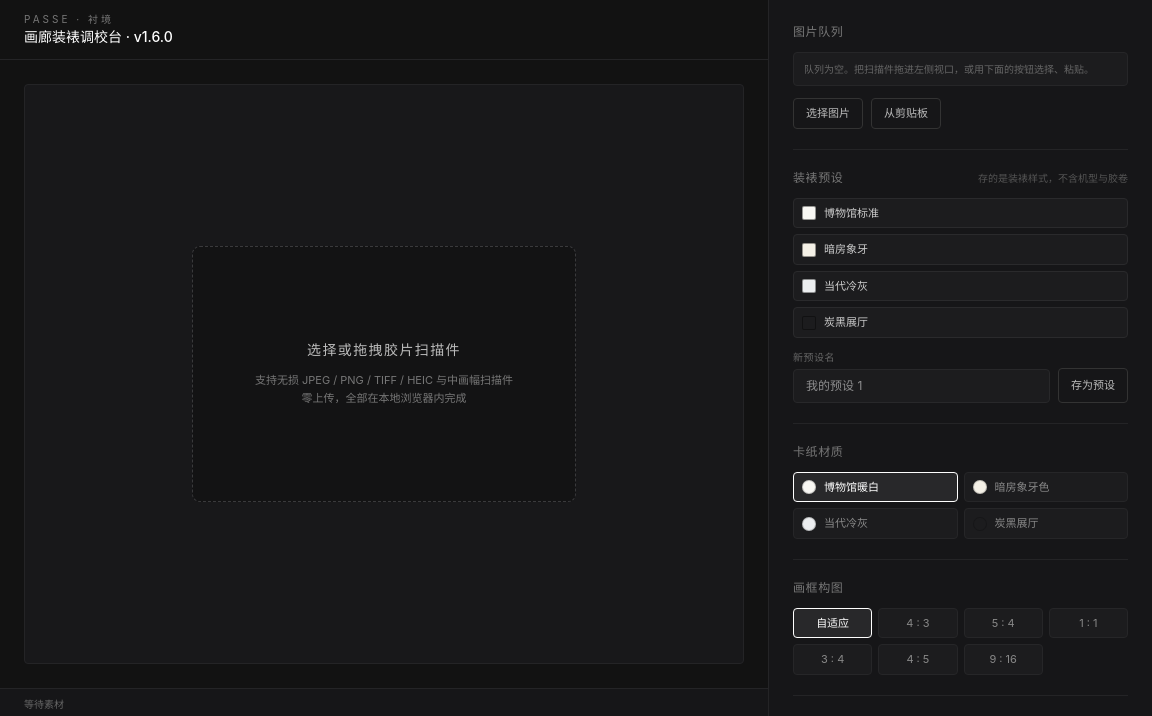
Scenario: 调校台 · 预设 › 出厂预设不可删除，用户预设可存可删
Click the button "存为预设" at (1093,386), box [1058,368,1128,403]
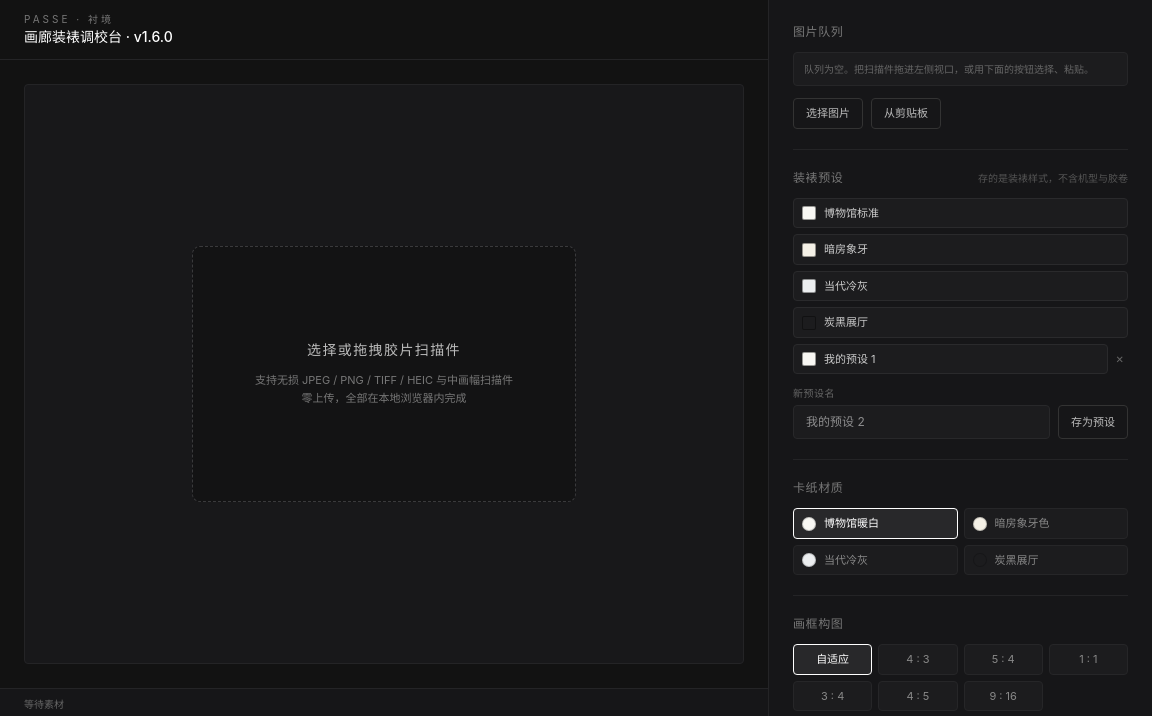
Expected: the text "我的预设 1" is shown, [824,351,876,367]
Expected: the number of buttons titled "删除这条预设" is 1
Click the button titled "删除这条预设" at (1120,359), box [1112,352,1128,366]
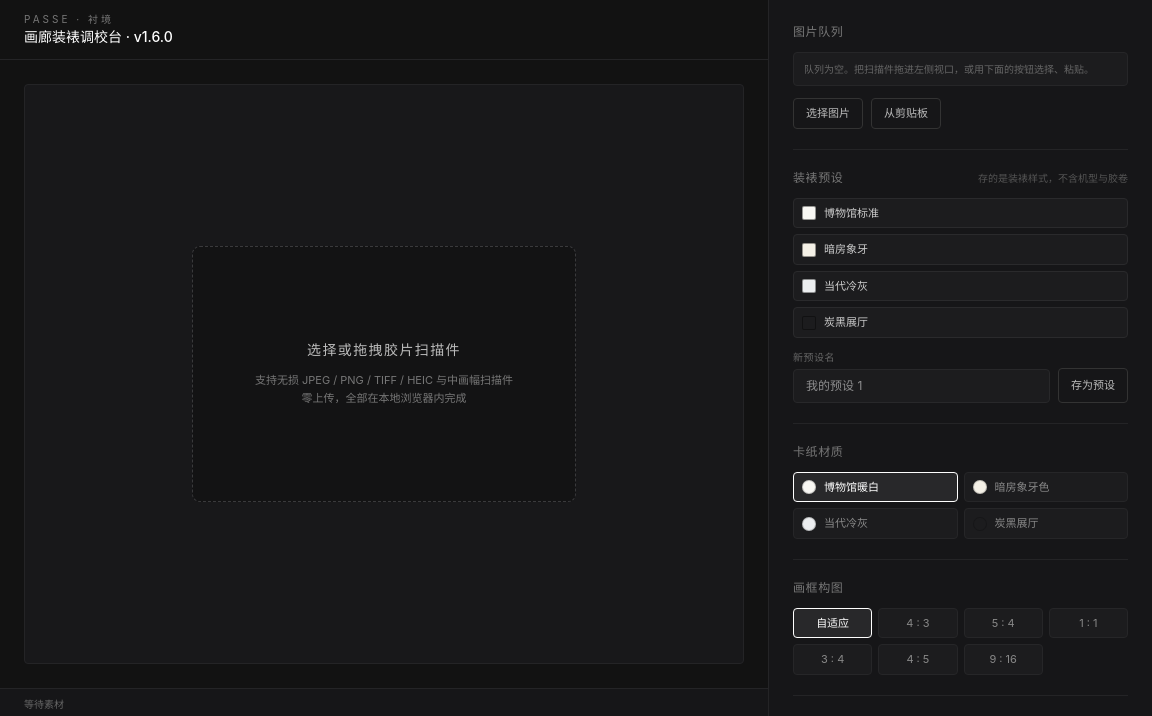
Expected: the text "我的预设 1" is gone
